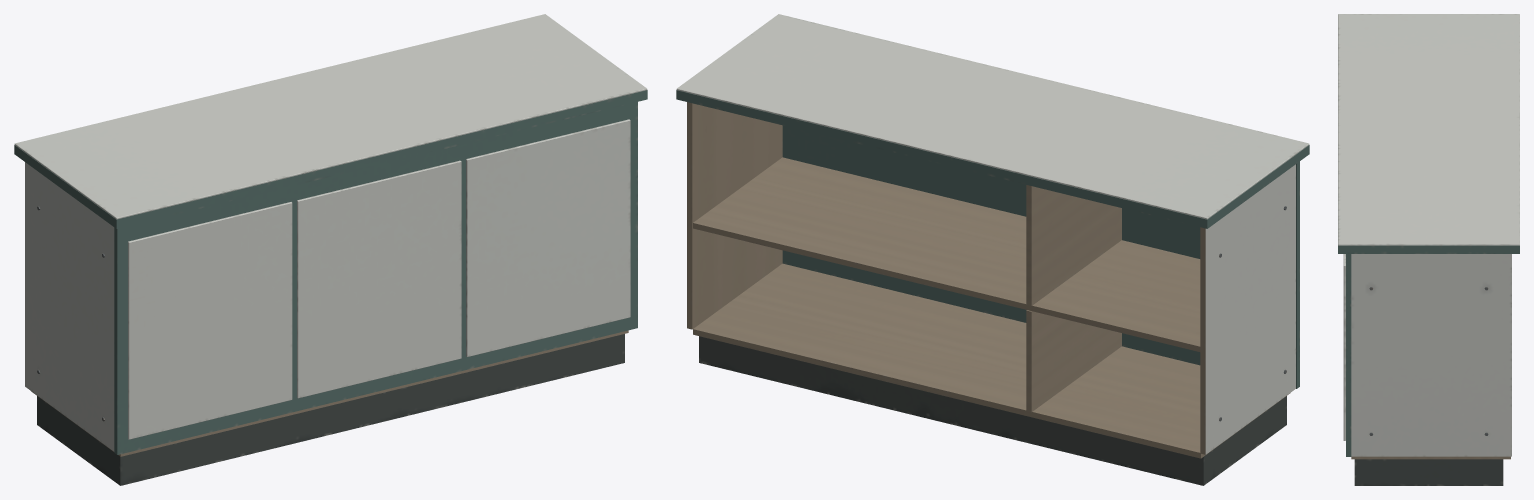
File: shop_counter_straight.glb
The picture shows the model from 3 angles, left to right: view 1: azimuth 30°, elevation 25°; view 2: azimuth 150°, elevation 25°; view 3: azimuth 270°, elevation 25°; orthographic projection. The views are drawn at different scales.
Parts seen in each view (by area): view 1: ShopCounterStraight; view 2: ShopCounterStraight; view 3: ShopCounterStraight.
Part boxes in pixels (<box>): ShopCounterStraight: <box>14,14,647,485</box>; ShopCounterStraight: <box>676,14,1309,485</box>; ShopCounterStraight: <box>1338,14,1519,485</box>.
Size of what is drawn, in the model's own units: 1.8 by 0.9 by 0.6.
1 material, 1 textured.
